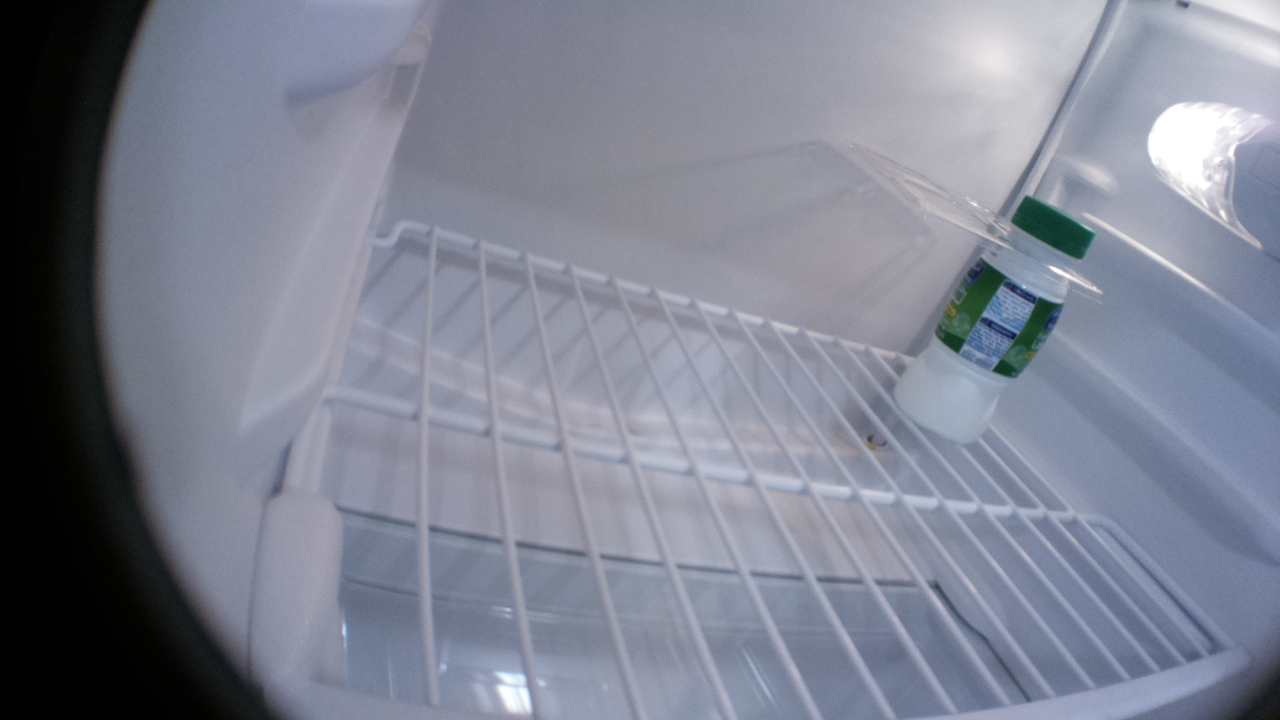laban: (894, 195, 1097, 436)
